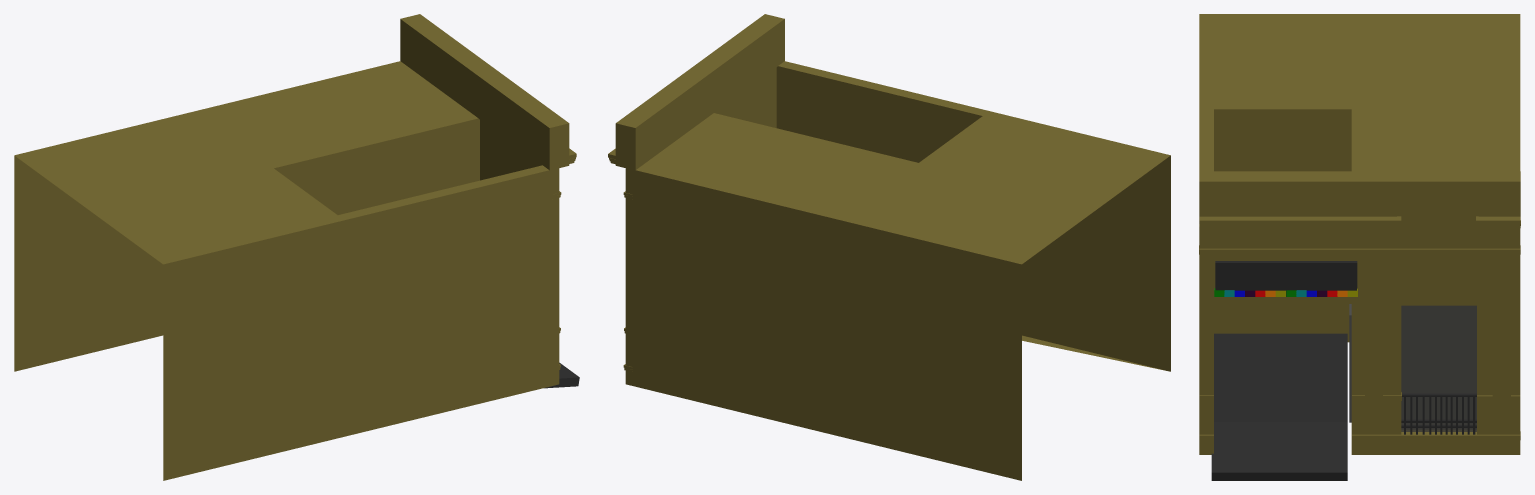
The model's file is edificio 3.fbx.
3 views of the same model, side by side, from view 1: azimuth 30°, elevation 25°; view 2: azimuth 150°, elevation 25°; view 3: azimuth 270°, elevation 25° (orthographic). The views are drawn at different scales.
Parts seen in each view (by area): view 1: BASE, Arco; view 2: BASE, Arco; view 3: BASE, Arco, Suelo, Vidrio, Rampa, ParteSuperior, Decoracion-Izquierda, CARTEL, CARTEL2, ParteInferior, VENTANA, Decoracion-Derecha (+1 smaller).
Boxes of the visible parts, <box> form: BASE: <box>14,61,559,480</box>; Arco: <box>400,14,569,170</box>; BASE: <box>625,61,1170,480</box>; Arco: <box>615,14,784,170</box>; BASE: <box>1199,14,1520,454</box>; Arco: <box>1199,171,1520,223</box>; Suelo: <box>1214,333,1347,422</box>; Vidrio: <box>1401,305,1476,431</box>; Rampa: <box>1211,422,1347,480</box>; ParteSuperior: <box>1199,245,1520,396</box>; Decoracion-Izquierda: <box>1199,216,1401,228</box>; CARTEL: <box>1215,274,1357,296</box>; CARTEL2: <box>1215,261,1357,285</box>; ParteInferior: <box>1199,392,1520,440</box>; VENTANA: <box>1401,393,1476,434</box>; Decoracion-Derecha: <box>1476,216,1520,228</box>.
Size of the model in its own units: 5062 by 3103 by 3104.
